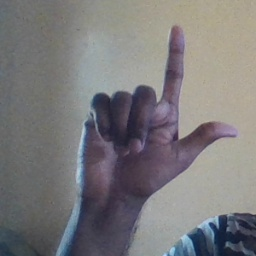L: (72, 24, 239, 202)
